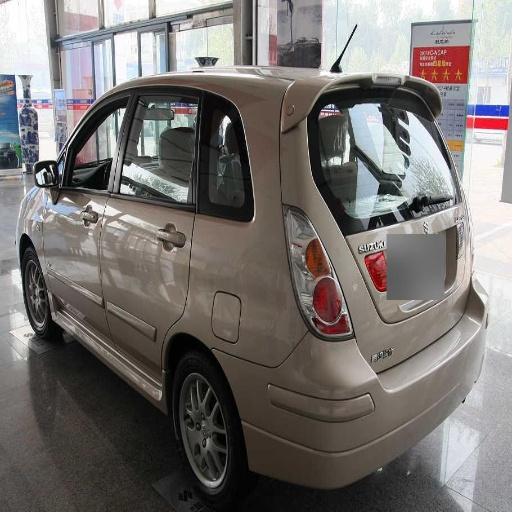back_bumper: (225, 309, 484, 487)
back_glass: (339, 96, 444, 193)
back_left_door: (102, 84, 232, 371)
tailgate: (324, 240, 431, 367), (368, 278, 422, 327)
trunk: (332, 205, 466, 357), (243, 88, 285, 138)
